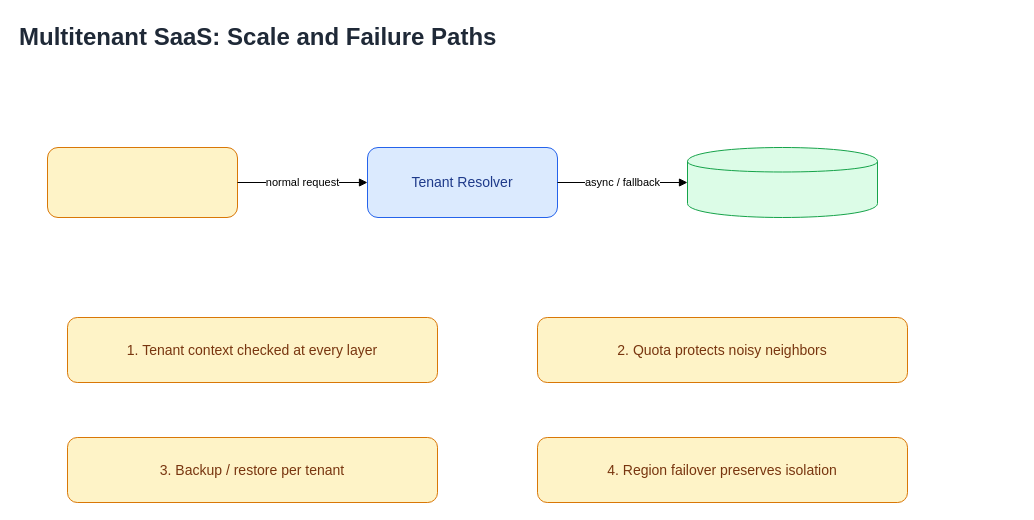
Some shapes in this 1034 by 520 pixel diagram are drawn without their labels. The box of each missing label's shape, as (x1, y1, x2, y2) in pixels:
Audit Service: (686, 146, 878, 218)
Traffic / Request Spike: (46, 146, 238, 218)
